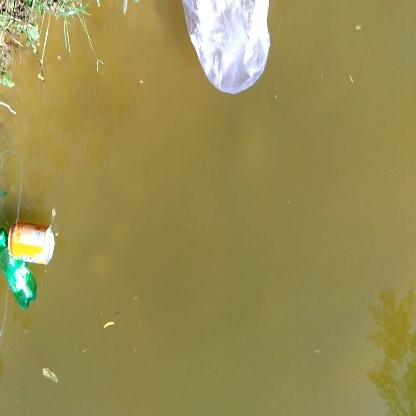bottle: (1, 213, 61, 271)
